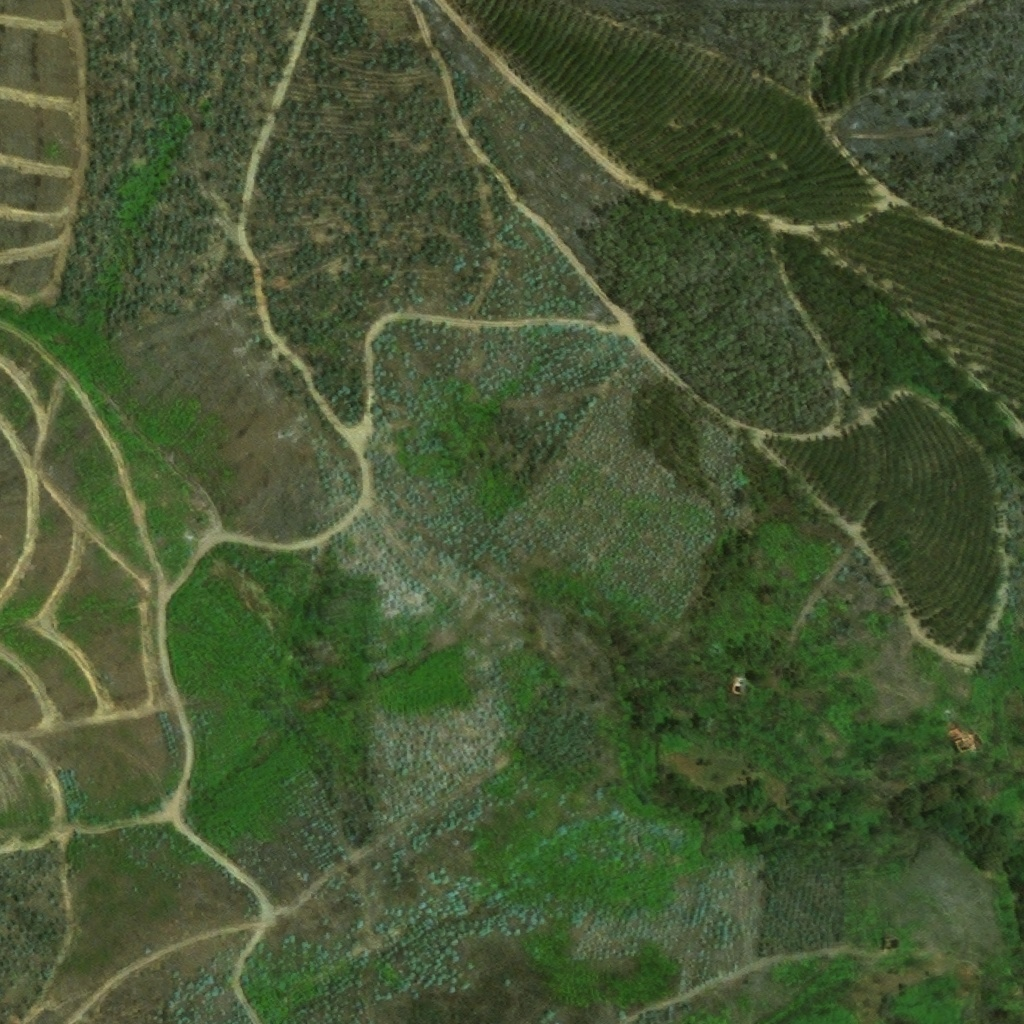0 no-damage: (951, 728, 987, 757)
